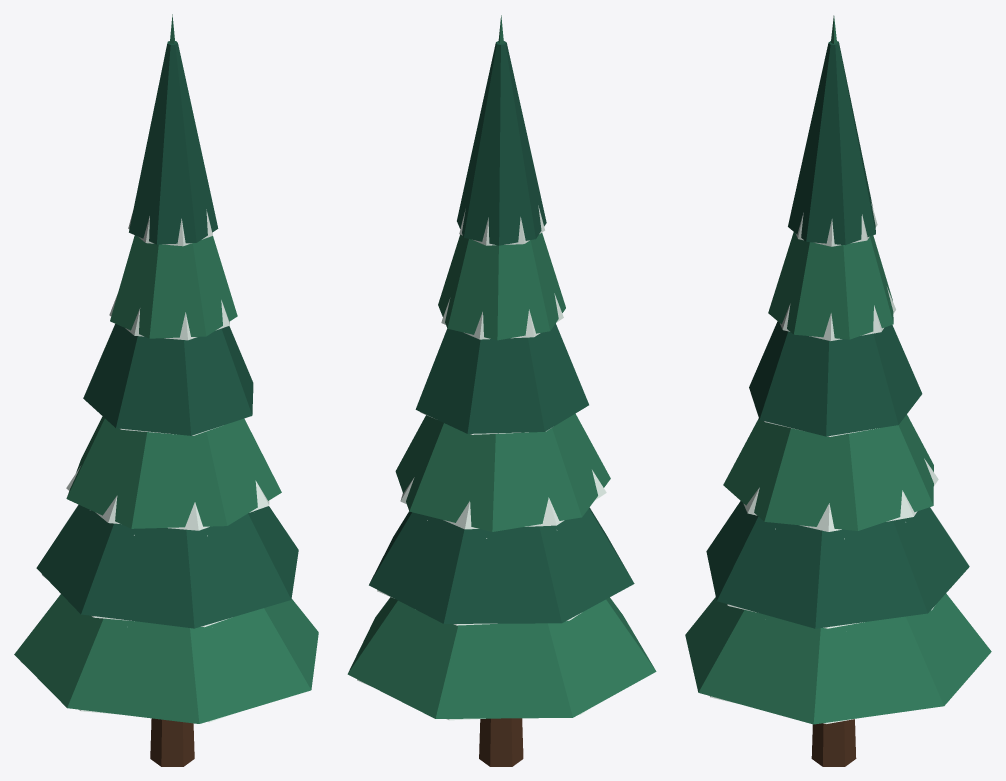
Rendered from Pine_Snow_A.obj.
3 views of the same model, side by side, from view 1: azimuth 30°, elevation 25°; view 2: azimuth 150°, elevation 25°; view 3: azimuth 270°, elevation 25° (orthographic).
Visible parts, largest first — view 1: Pine_Snow_A; view 2: Pine_Snow_A; view 3: Pine_Snow_A.
Part boxes in pixels (<box>): Pine_Snow_A: <box>14,14,318,766</box>; Pine_Snow_A: <box>347,15,656,766</box>; Pine_Snow_A: <box>685,15,991,766</box>.
Bounding box in the file's own units: 3.88 × 10.35 × 3.86.
1 material, 1 textured.
